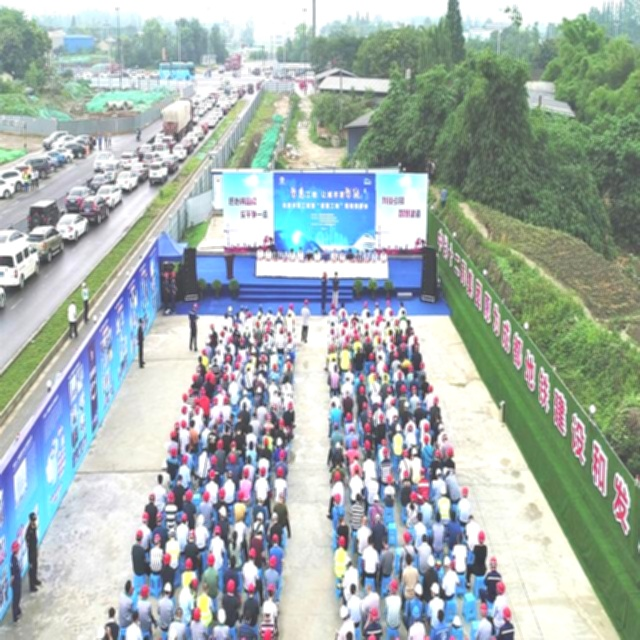Con_Chaleco: (199, 594, 212, 626), (334, 548, 346, 575), (439, 496, 450, 521), (394, 433, 403, 455)
Sin_Chaleco: (351, 504, 361, 528), (359, 526, 368, 550)
